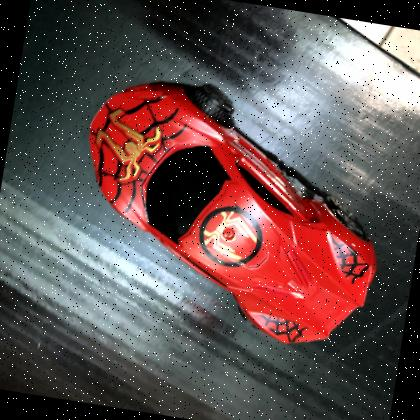Car: (88, 80, 377, 344)
